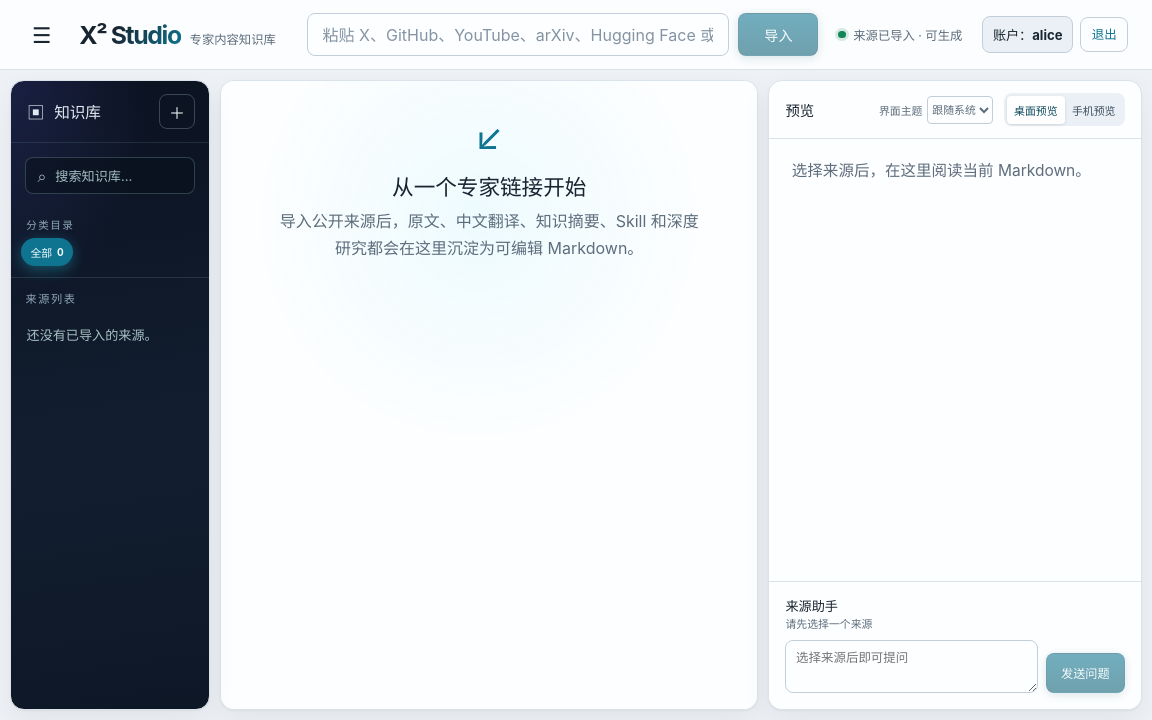
Scenario: App › does not run a scheduled presentation retry after unmount
This screenshot has width=1152, height=720.
Expected: the button named "打开知识库" is shown, [24,17,59,52]
Click the button "手机预览" at (1094, 110), box [1065,96,1123,124]
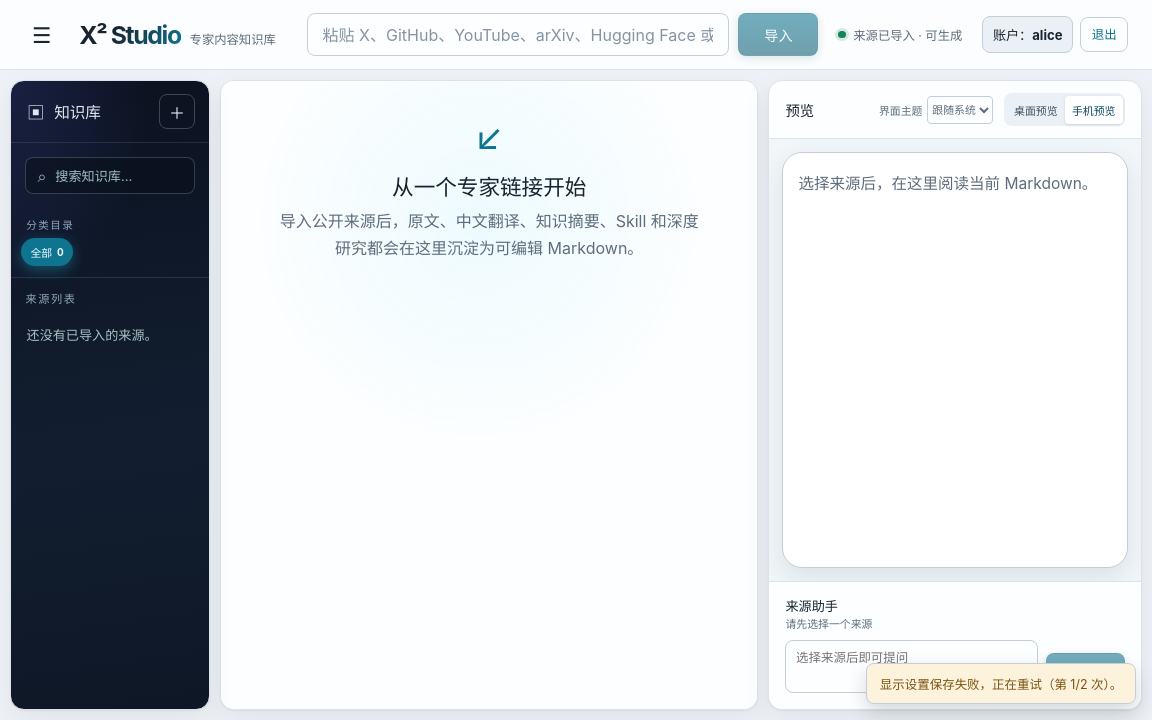
Now the message shows "正在重试", box [880,677,1122,692]
